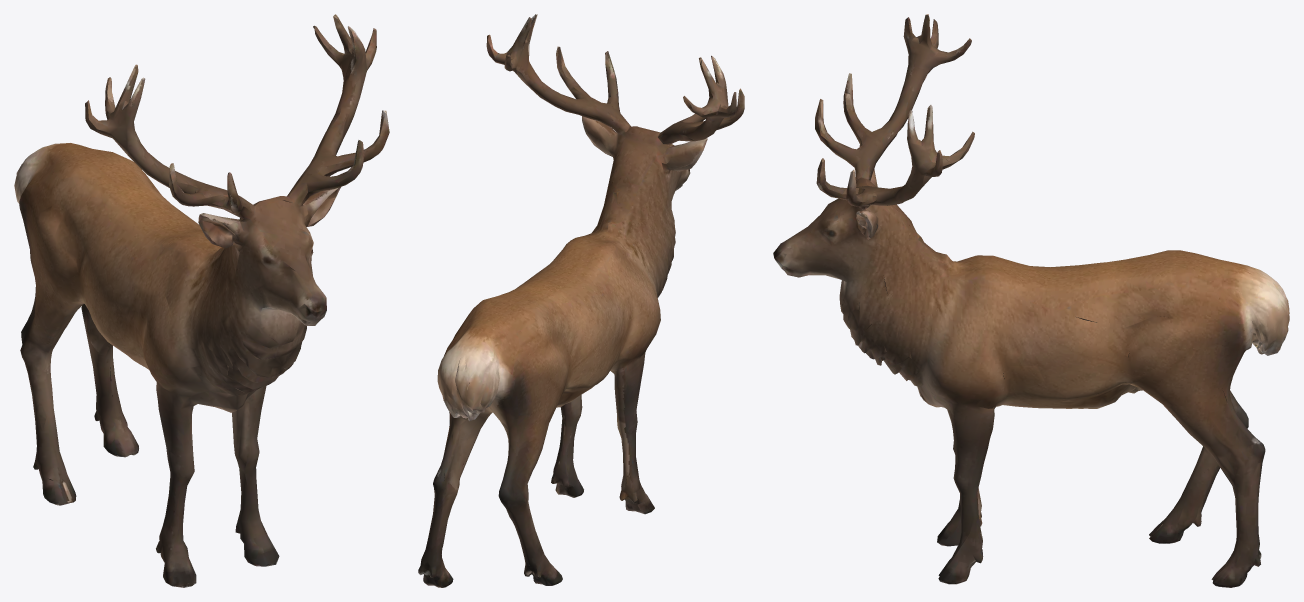
The model's file is deer-stag.glb.
3 views of the same model, side by side, from view 1: azimuth 30°, elevation 25°; view 2: azimuth 150°, elevation 25°; view 3: azimuth 270°, elevation 25° (orthographic). The views are drawn at different scales.
Visible parts, largest first — view 1: deer-stag; view 2: deer-stag; view 3: deer-stag.
Part boxes in pixels (x1,y1,x2,y2): deer-stag: (14, 14, 389, 587); deer-stag: (418, 14, 744, 587); deer-stag: (773, 14, 1289, 587).
Size of the model in its own units: 1.48 by 2.6 by 2.43.
1 material, 1 textured.
